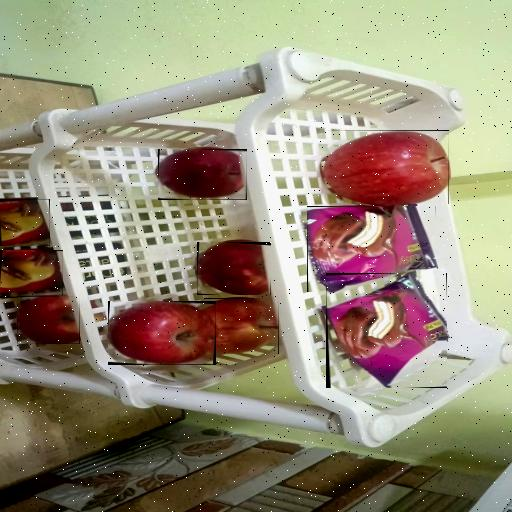Apple: (321, 130, 449, 204), (108, 301, 216, 365), (158, 149, 247, 200), (204, 298, 279, 354), (197, 242, 271, 295), (17, 296, 80, 344)
Choco Fills: (0, 250, 63, 298), (0, 199, 50, 246)
Choco Pie: (326, 273, 447, 388), (308, 206, 438, 292)
